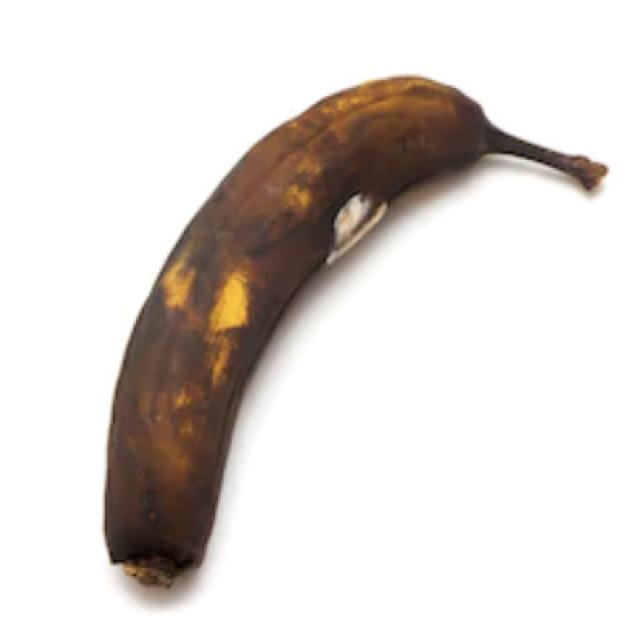Rotten: (72, 61, 610, 601)
